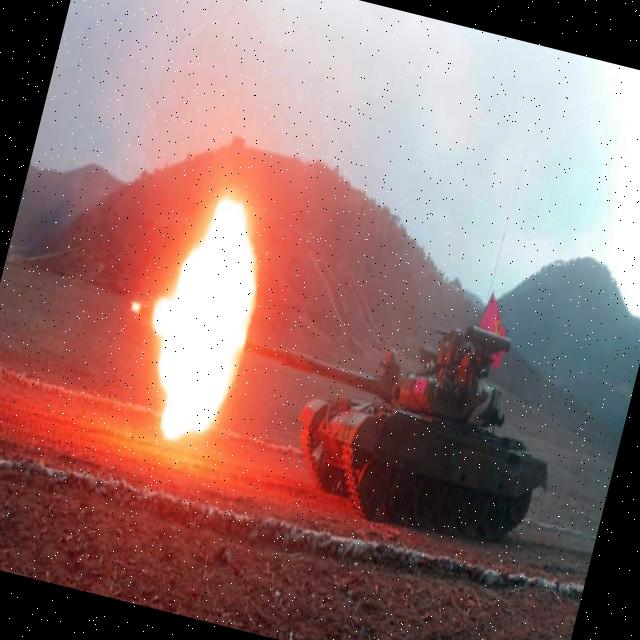north tank: (242, 261, 608, 603)
